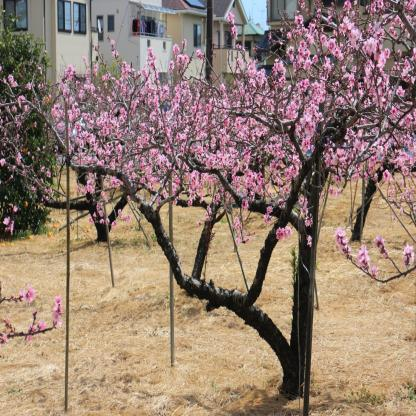Momo: (0, 0, 416, 346)
